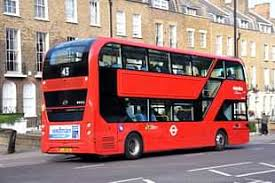bus: (38, 36, 249, 160)
